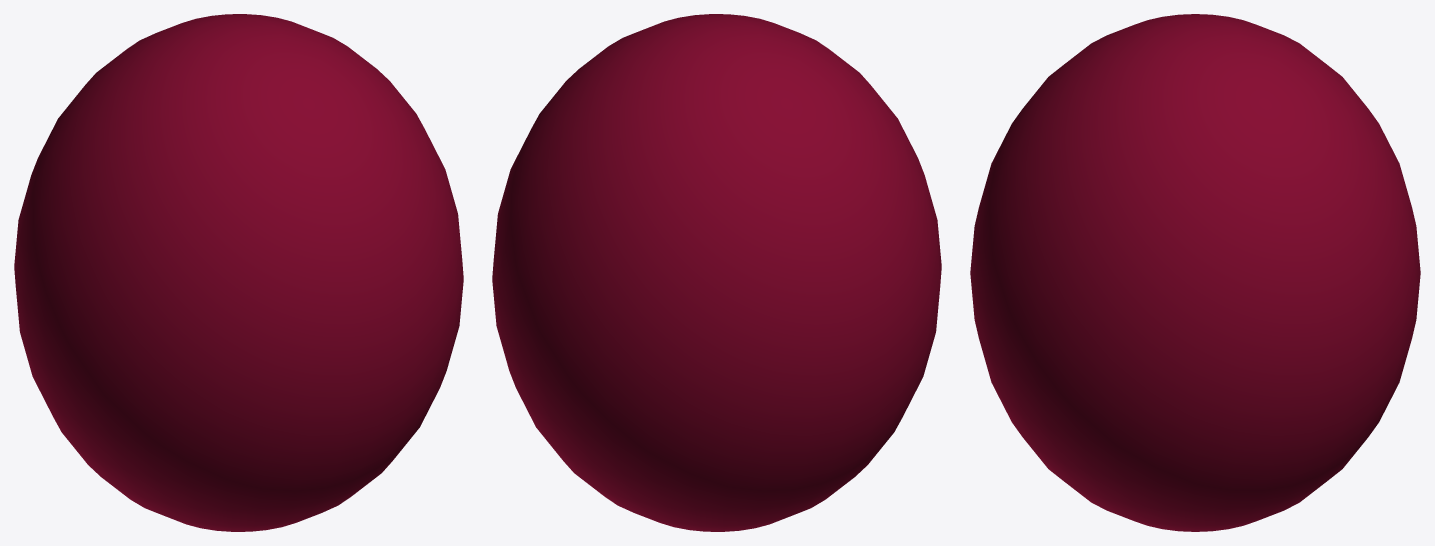
File: Fruit_Passion_Fruit.fbx
The picture shows the model from 3 angles, left to right: view 1: azimuth 30°, elevation 25°; view 2: azimuth 150°, elevation 25°; view 3: azimuth 270°, elevation 25°; orthographic projection.
Parts seen in each view (by area): view 1: Passion_Fruit; view 2: Passion_Fruit; view 3: Passion_Fruit.
Boxes of the visible parts, bbox=[...] form: Passion_Fruit: bbox=[14, 14, 463, 531]; Passion_Fruit: bbox=[492, 14, 941, 531]; Passion_Fruit: bbox=[970, 14, 1420, 531].
Size of the model in its own units: 200 by 236 by 200.
